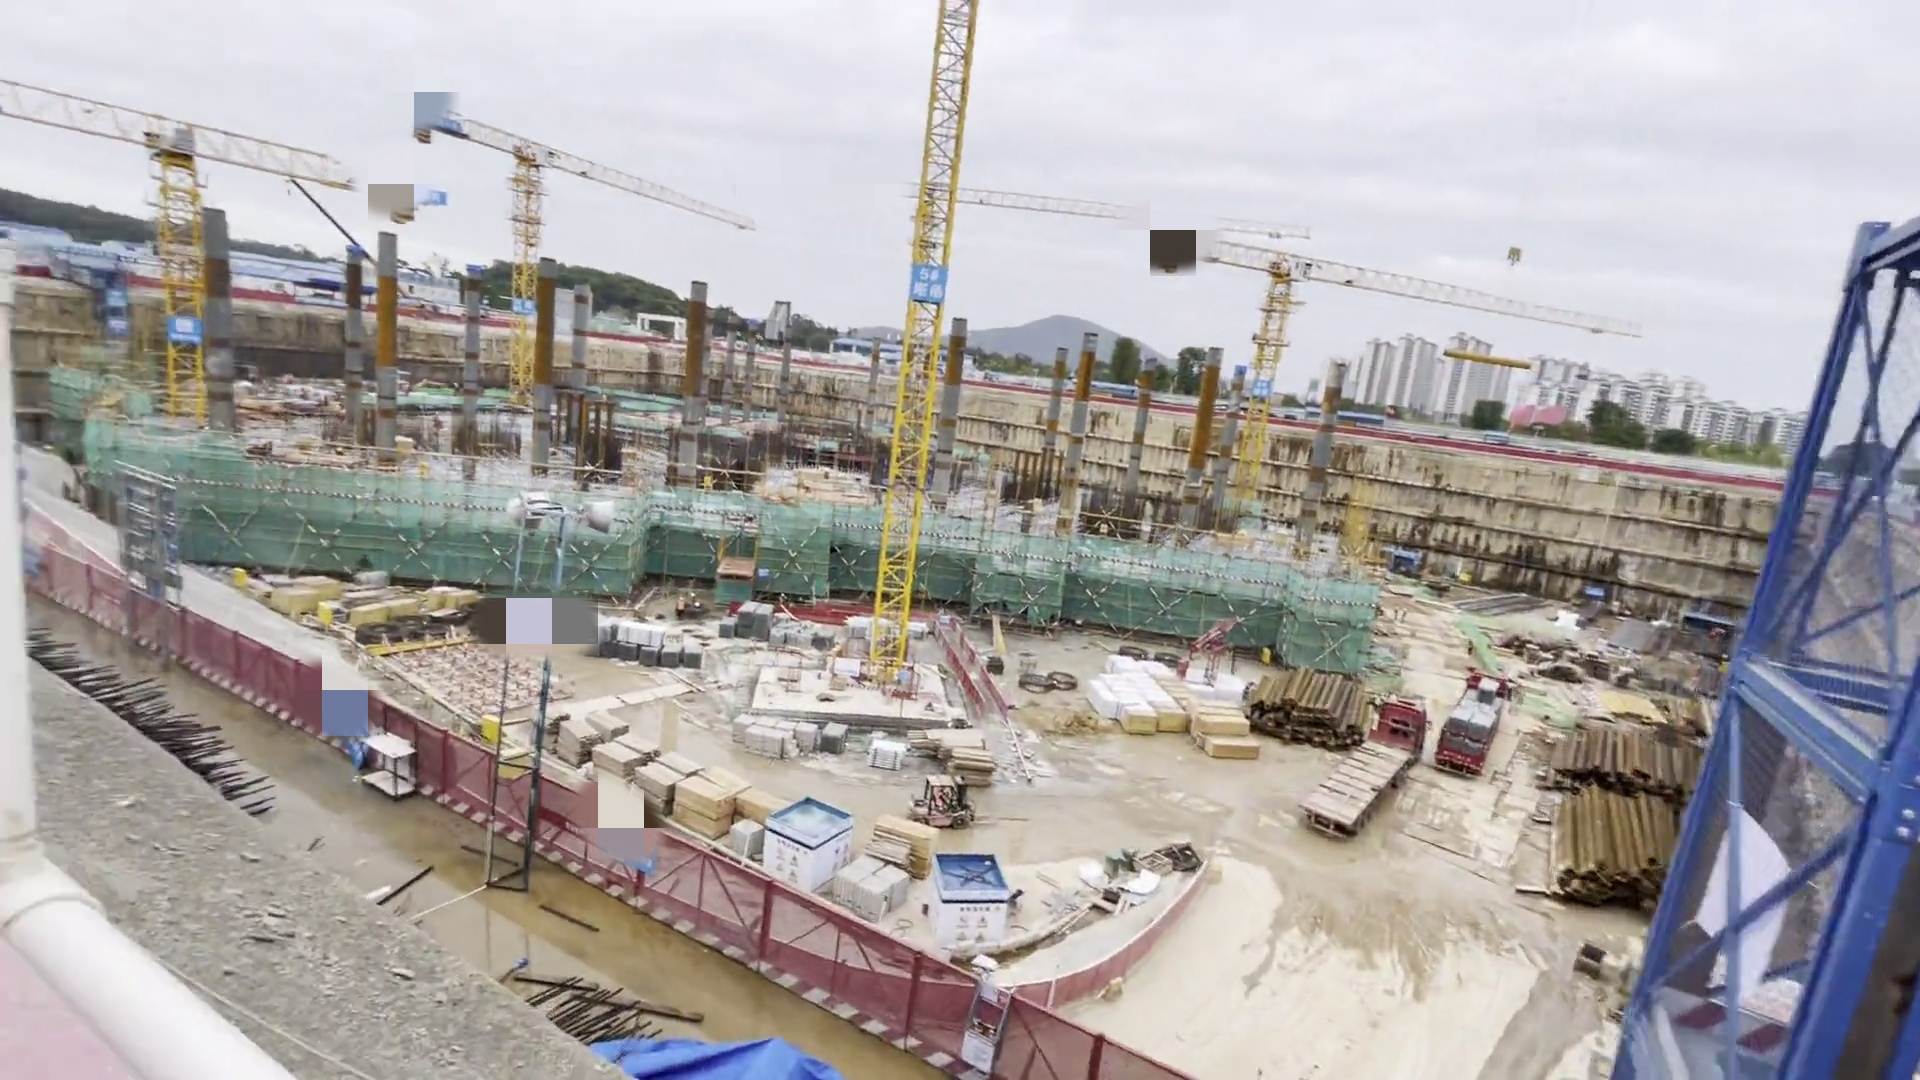board: (568, 708, 818, 855), (1153, 678, 1267, 786), (874, 811, 942, 885)
ebox: (467, 700, 558, 770), (313, 589, 381, 667), (218, 554, 255, 593)
fence: (75, 570, 1184, 1080), (918, 600, 1062, 728)
scaffold: (876, 723, 902, 785)
slogan: (905, 258, 955, 309), (95, 282, 127, 338), (510, 285, 539, 327), (170, 310, 204, 345)
wood: (918, 713, 1030, 798)
